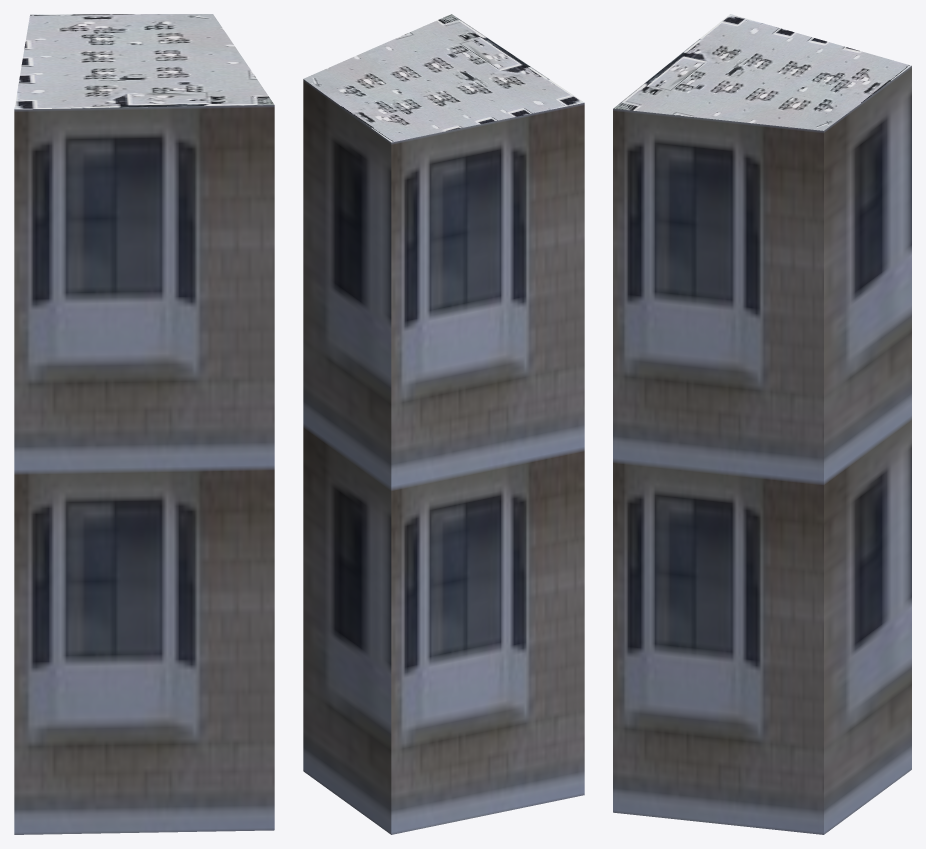
Rendered from ResTex__3414.fbx.
3 views of the same model, side by side, from view 1: azimuth 30°, elevation 25°; view 2: azimuth 150°, elevation 25°; view 3: azimuth 270°, elevation 25° (orthographic). The views are drawn at different scales.
Parts seen in each view (by area): view 1: CityEngineMaterial_3_m, CityEngineMaterial_4_m; view 2: CityEngineMaterial_3_m, CityEngineMaterial_4_m; view 3: CityEngineMaterial_3_m, CityEngineMaterial_4_m.
Boxes of the visible parts, box(x1,y1,x2,y2) form: CityEngineMaterial_3_m: box(14, 105, 274, 834); CityEngineMaterial_4_m: box(14, 14, 274, 109); CityEngineMaterial_3_m: box(303, 79, 584, 834); CityEngineMaterial_4_m: box(303, 14, 584, 142); CityEngineMaterial_3_m: box(613, 66, 911, 834); CityEngineMaterial_4_m: box(613, 14, 911, 130).
Size of the model in its own units: 2.14 by 6 by 2.31.
2 materials, 2 textured.
